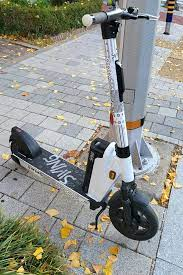guide_blocks: (160, 59, 183, 80), (158, 39, 183, 53)
kick_board: (10, 6, 155, 239)
kick_handler: (84, 7, 157, 33)
kick_neck: (104, 41, 134, 175)
kick_wheel: (109, 193, 159, 241), (9, 127, 32, 166)
